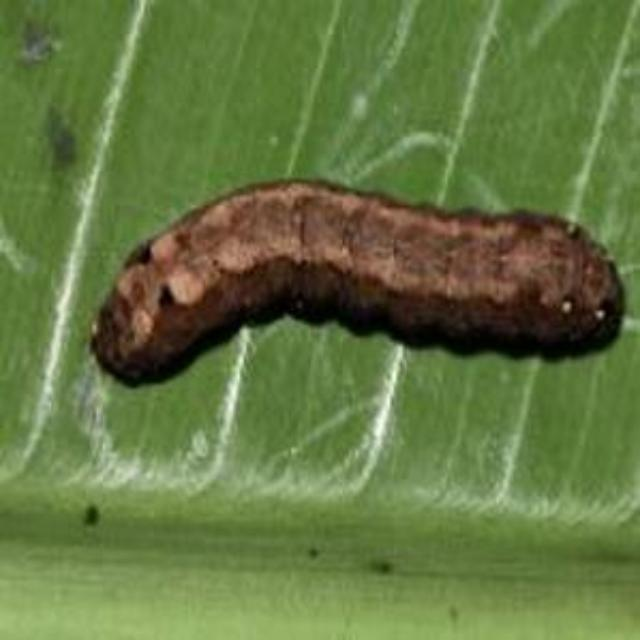Tobacco cutworm: (81, 112, 640, 487)
